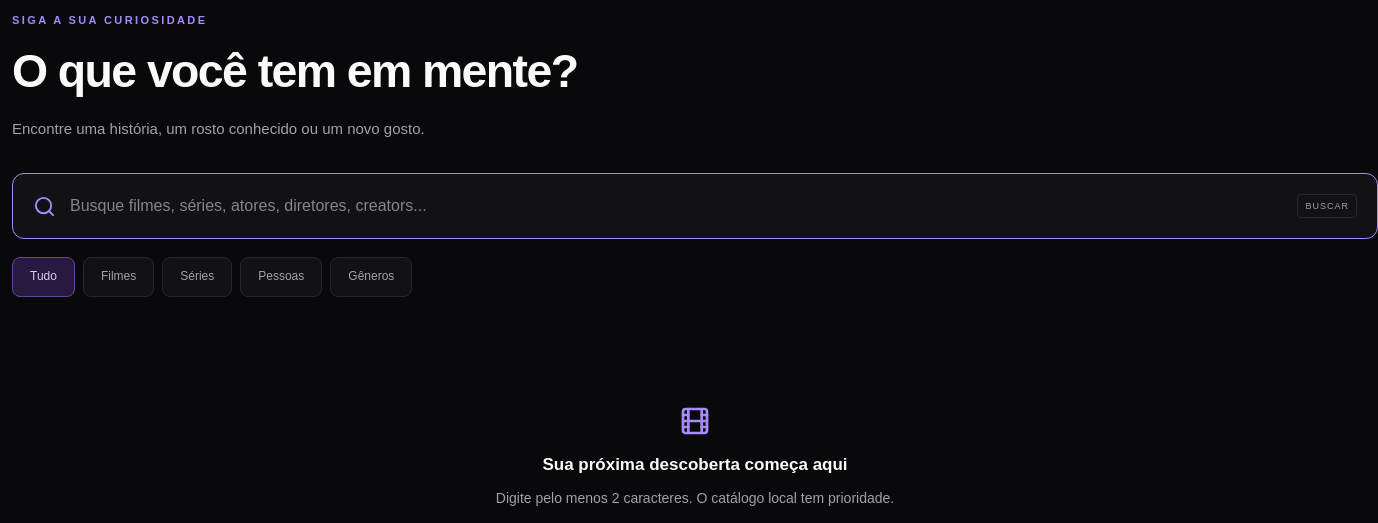
Test case: Search and SearchResults › shows connection errors and retry
The image size is (1378, 523).
In the field named "Busca universal": point(677, 206) x1=70 y1=179 x2=1284 y2=233, type "Matrix"
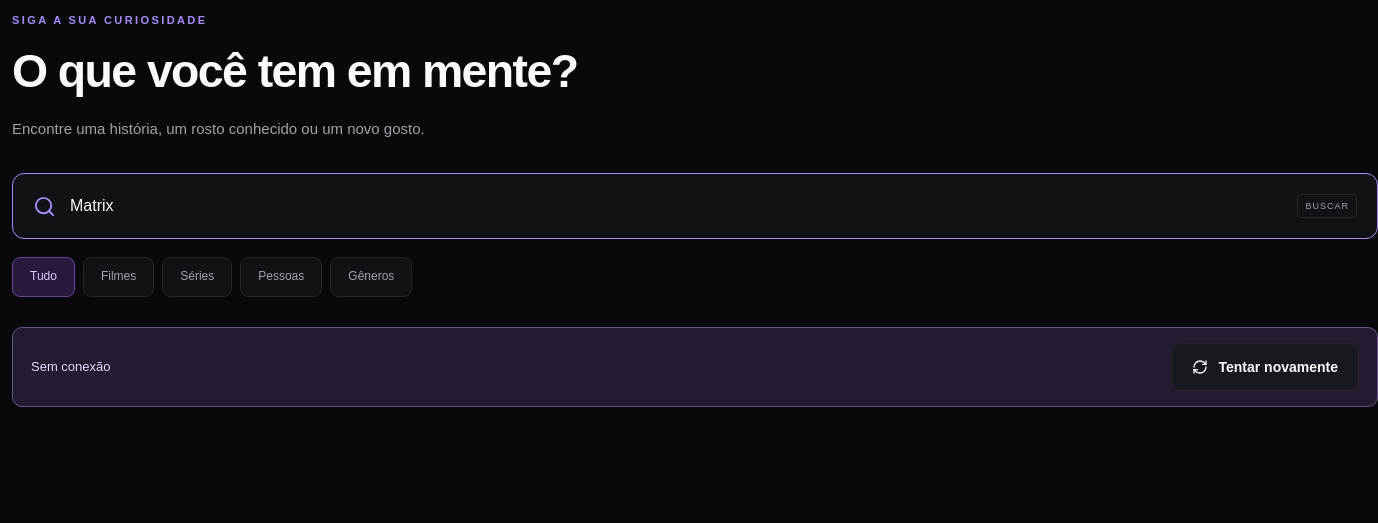
Expected: the message shows "Sem conexão", x1=31 y1=359 x2=110 y2=374
Expected: the button "Tentar novamente" is shown, x1=1172 y1=343 x2=1359 y2=392
